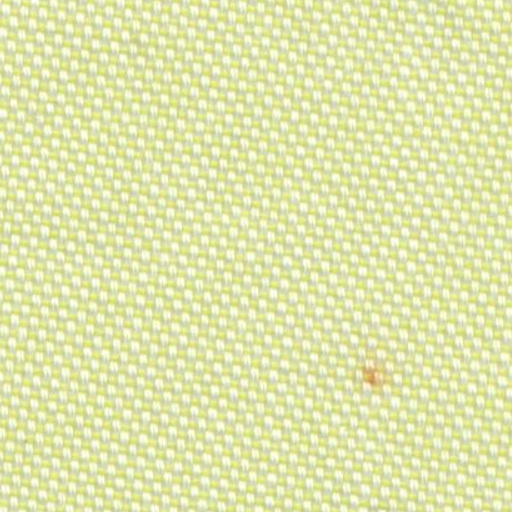WuZi: (340, 346, 400, 406)
